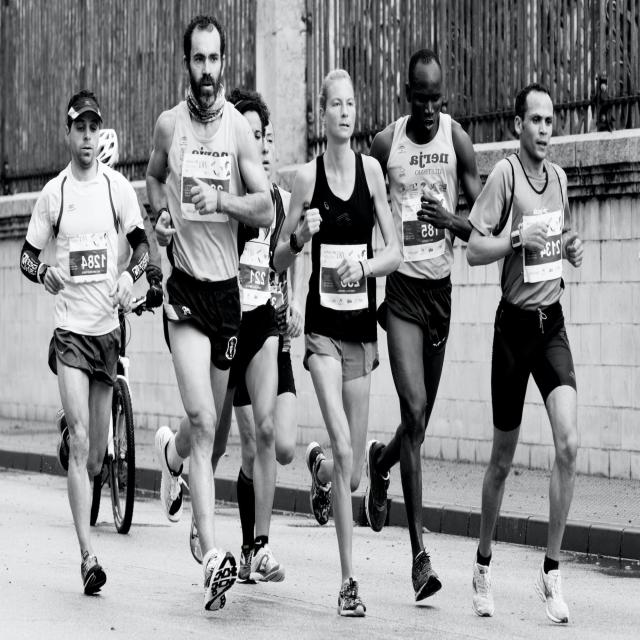adult: (143, 12, 272, 613), (272, 67, 402, 612), (465, 82, 586, 618), (18, 91, 145, 600), (367, 43, 481, 596), (230, 87, 285, 582)
